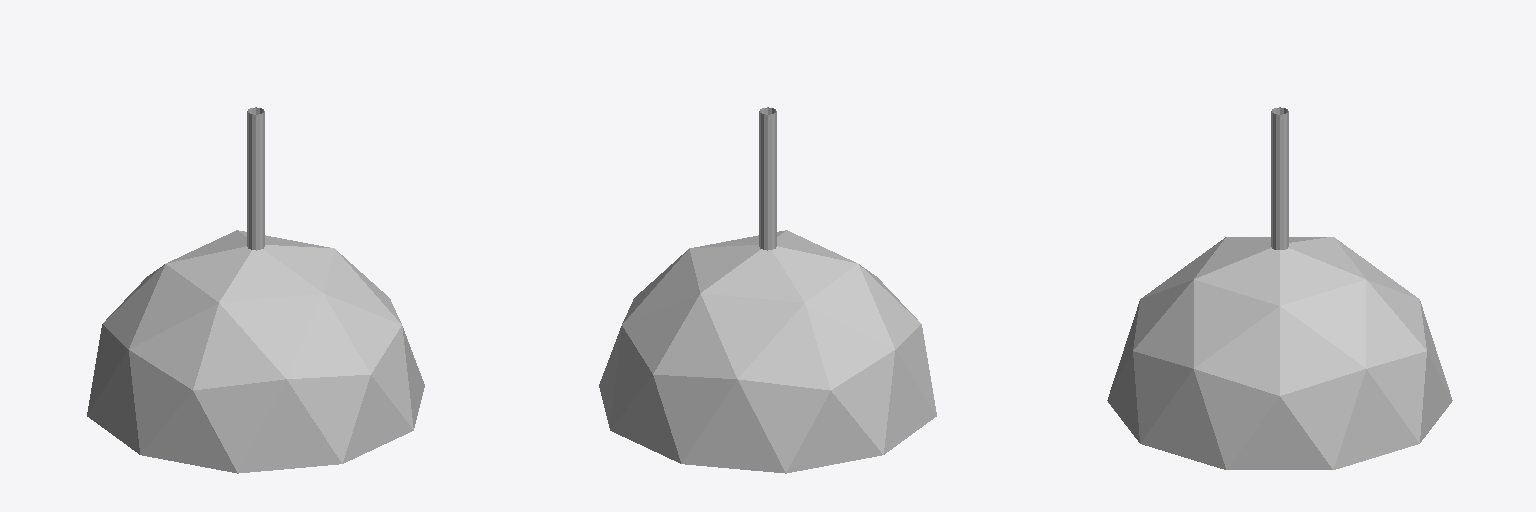
The model's file is Ceiling Lamp.obj.
3 views of the same model, side by side, from view 1: azimuth 30°, elevation 25°; view 2: azimuth 150°, elevation 25°; view 3: azimuth 270°, elevation 25° (orthographic).
Parts seen in each view (by area): view 1: Lamp; view 2: Lamp; view 3: Lamp.
Boxes of the visible parts, box(x1,y1,x2,y2) form: Lamp: box(87, 107, 424, 473); Lamp: box(599, 107, 936, 473); Lamp: box(1107, 107, 1452, 469).
Bounding box in the file's own units: 14.98 × 14.57 × 15.75.